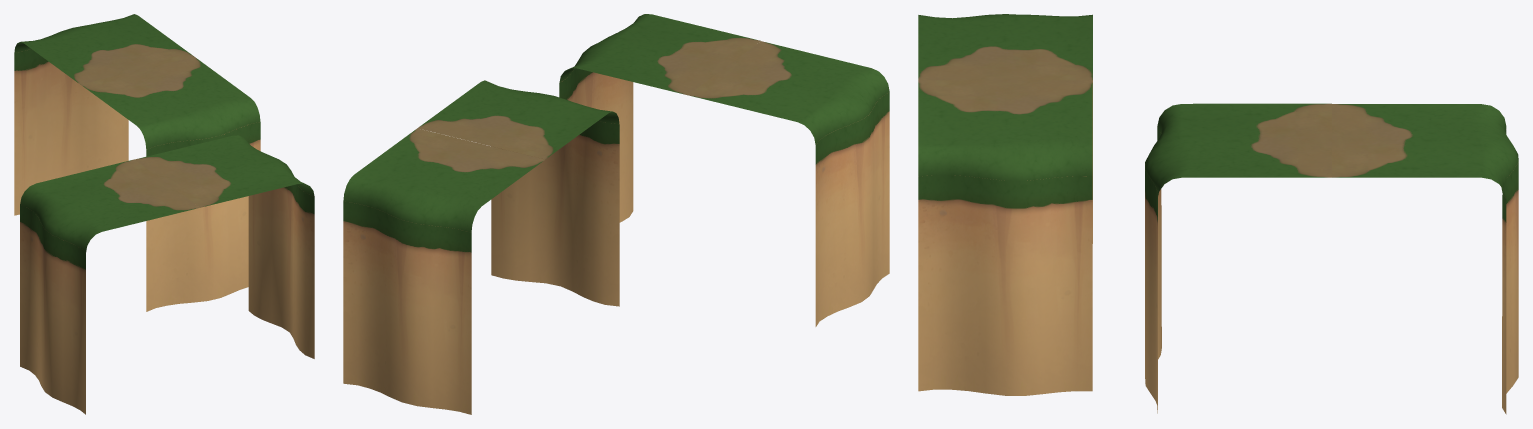
The model's file is TM_Side_Grass.fbx.
The picture shows the model from 3 angles, left to right: view 1: azimuth 30°, elevation 25°; view 2: azimuth 150°, elevation 25°; view 3: azimuth 270°, elevation 25°; orthographic projection. The views are drawn at different scales.
Visible parts, largest first — view 1: TM_Grass_BasicCube01.303, TM_Grass_BasicCube01.302, TM_Grass_BasicCube01.301, TM_Grass_BasicCube01.300; view 2: TM_Grass_BasicCube01.301, TM_Grass_BasicCube01.303, TM_Grass_BasicCube01.302, TM_Grass_BasicCube01.300; view 3: TM_Grass_BasicCube01.300, TM_Grass_BasicCube01.301, TM_Grass_BasicCube01.303, TM_Grass_BasicCube01.302.
Boxes of the visible parts, x1,y1,x2,y2 form: TM_Grass_BasicCube01.303: [80, 56, 260, 311]; TM_Grass_BasicCube01.302: [20, 159, 199, 414]; TM_Grass_BasicCube01.301: [14, 14, 193, 215]; TM_Grass_BasicCube01.300: [135, 135, 314, 358]; TM_Grass_BasicCube01.301: [343, 128, 544, 414]; TM_Grass_BasicCube01.303: [418, 80, 619, 306]; TM_Grass_BasicCube01.302: [688, 41, 889, 326]; TM_Grass_BasicCube01.300: [559, 14, 760, 222]; TM_Grass_BasicCube01.300: [918, 80, 1092, 395]; TM_Grass_BasicCube01.301: [1332, 104, 1518, 414]; TM_Grass_BasicCube01.303: [1145, 103, 1331, 413]; TM_Grass_BasicCube01.302: [918, 14, 1092, 243].
Bounding box in the file's own units: 9.55 × 6.01 × 13.76.
